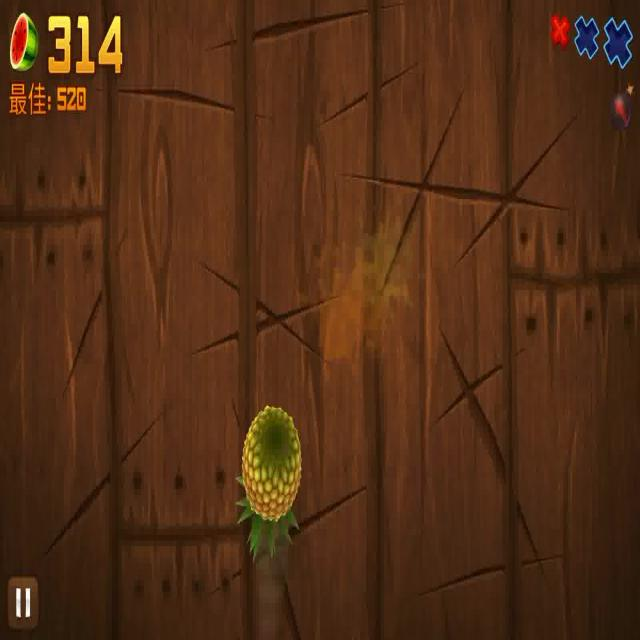fruit: (232, 400, 305, 567)
